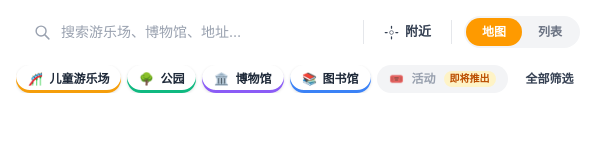
Scenario: search suggestions › still match the English name while reading Chinese
This screenshot has width=597, height=160.
Type "golden gate" into the dropdown with placeholder "搜索游乐场、博物馆、地址…".
click(206, 32); type("golden gate")  # box top-left (61, 22), bottom-right (351, 42)
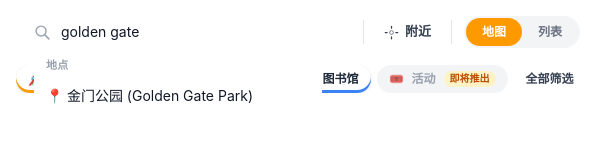
Result: the option "📍 金门公园 (Golden Gate Park)" is shown at top-left (34, 78), bottom-right (322, 114)
